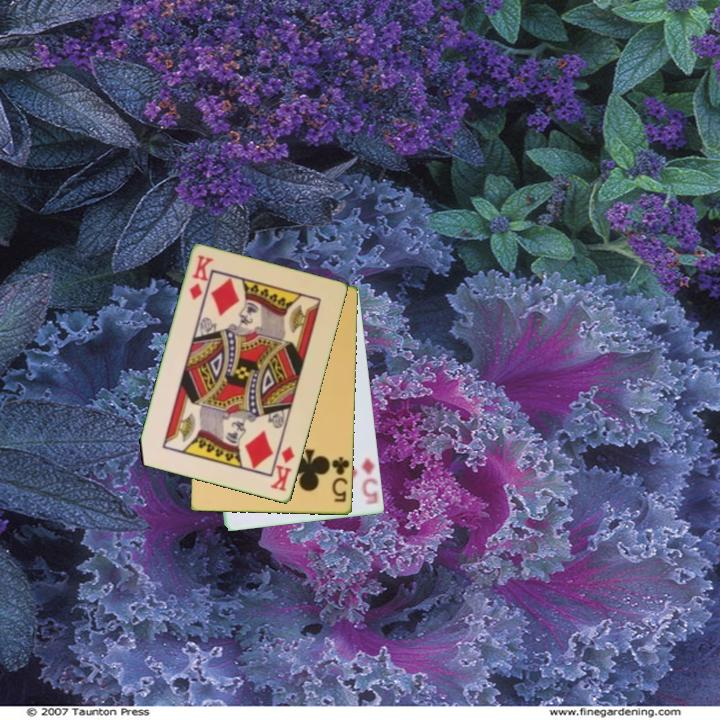5c: (329, 453, 352, 505)
5d: (358, 454, 381, 506)
Kd: (267, 443, 297, 495), (186, 252, 216, 303)
